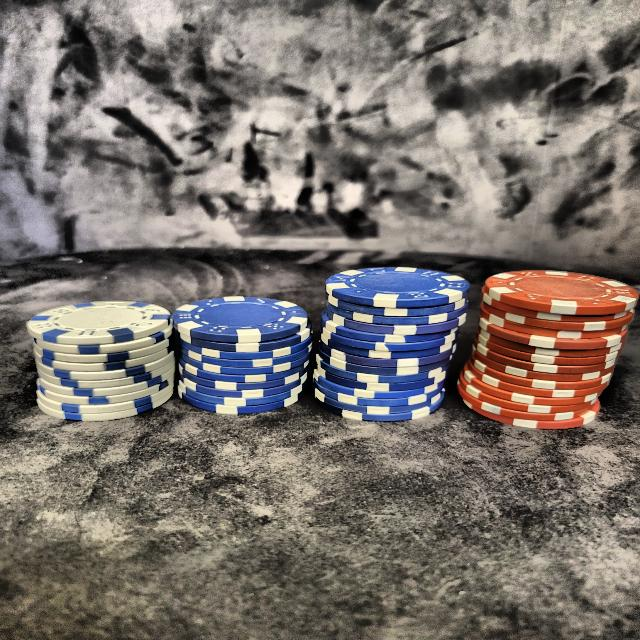Chip: (450, 244, 636, 437), (315, 244, 472, 441), (33, 280, 176, 435), (178, 282, 310, 425)
